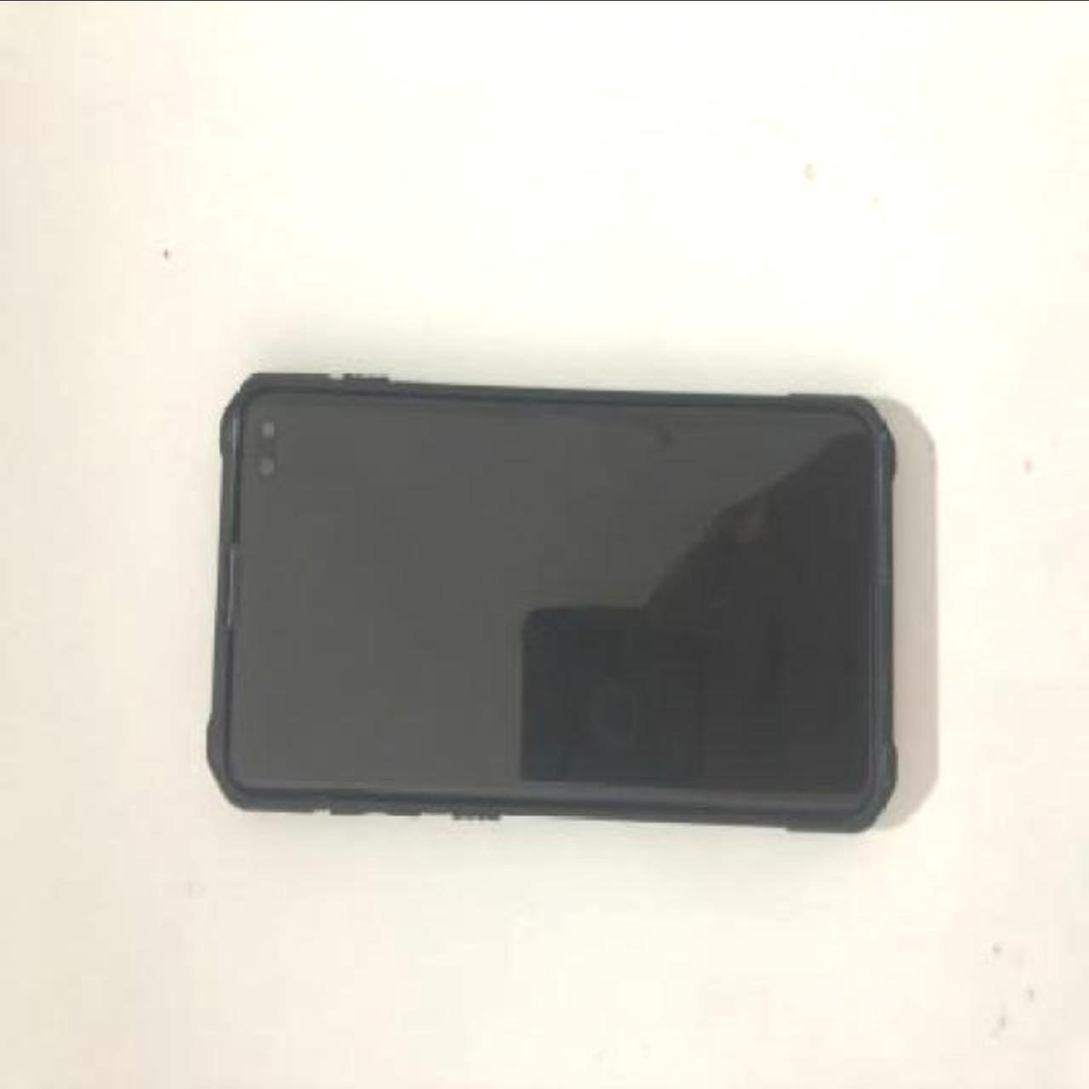phone: (204, 386, 898, 842)
